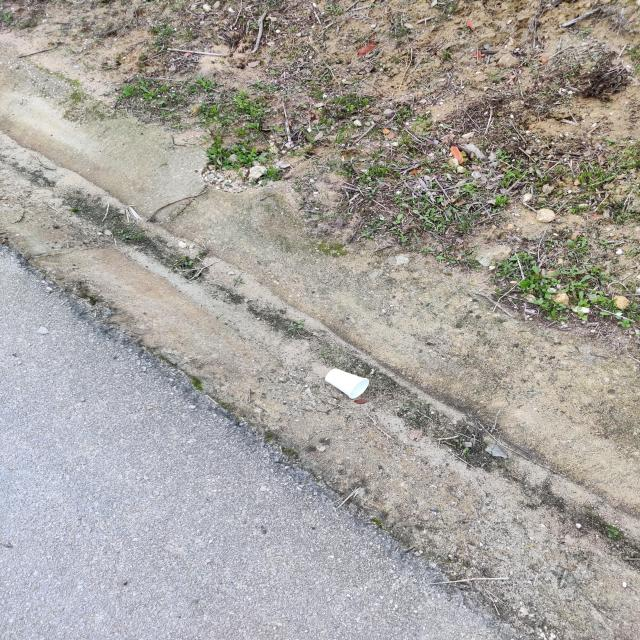litter: (325, 368, 369, 399)
